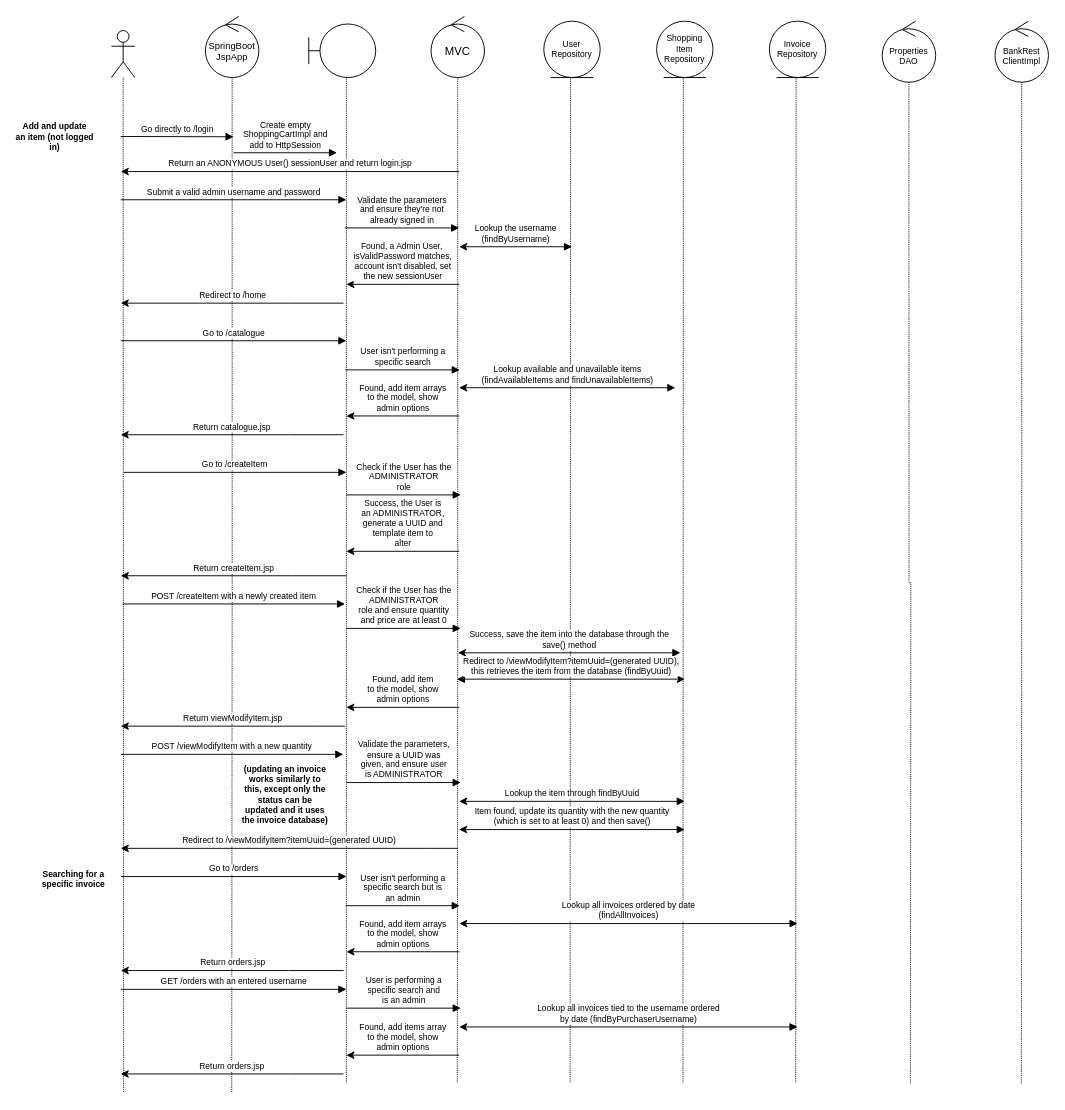
Image size: 1065x1110. Some labels were removed from this diagram. Each missing label, with the box of its shape:
ADMIN: (110, 30, 135, 78)
Session: (308, 23, 376, 78)
